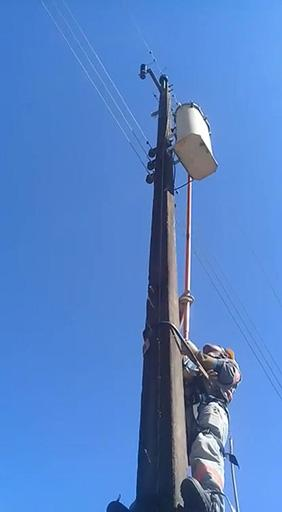Vara_Manobra: (183, 173, 194, 358)
